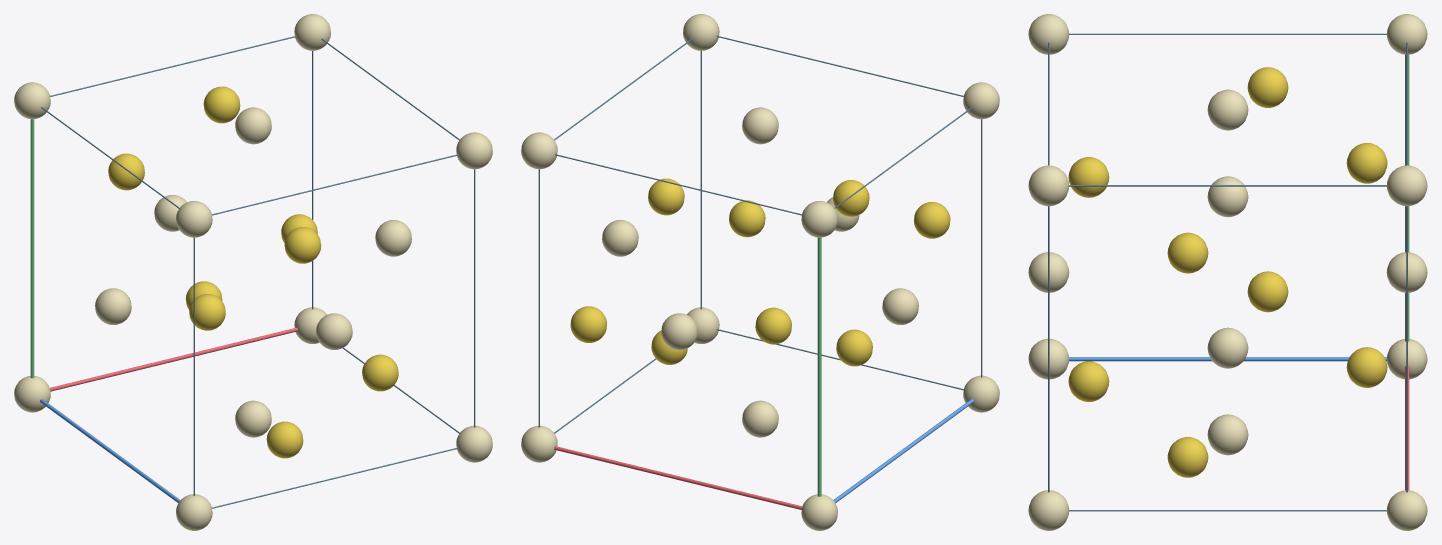
The model's file is laurite.glb.
3 views of the same model, side by side, from view 1: azimuth 30°, elevation 25°; view 2: azimuth 150°, elevation 25°; view 3: azimuth 270°, elevation 25° (orthographic). The views are drawn at different scales.
Visible parts, largest first — view 1: Ru · Ru · 1 (×14), Ô mạng và các trục a, b, c, S · S · 1 (×6); view 2: Ru · Ru · 1 (×13), S · S · 1 (×8), Ô mạng và các trục a, b, c; view 3: Ru · Ru · 1 (×14), S · S · 1 (×8), Ô mạng và các trục a, b, c.
Part boxes in pixels (x1,y1,x2,y2): Ru · Ru · 1 (×14): [14, 14, 492, 530]; Ô mạng và các trục a, b, c: [30, 35, 475, 508]; S · S · 1 (×6): [108, 86, 398, 458]; Ru · Ru · 1 (×13): [521, 14, 999, 530]; S · S · 1 (×8): [570, 178, 950, 366]; Ô mạng và các trục a, b, c: [538, 35, 982, 509]; Ru · Ru · 1 (×14): [1028, 14, 1427, 530]; S · S · 1 (×8): [1068, 67, 1387, 477]; Ô mạng và các trục a, b, c: [1048, 33, 1409, 511].
Bounding box in the file's own units: 6.25 × 6.25 × 6.25.
